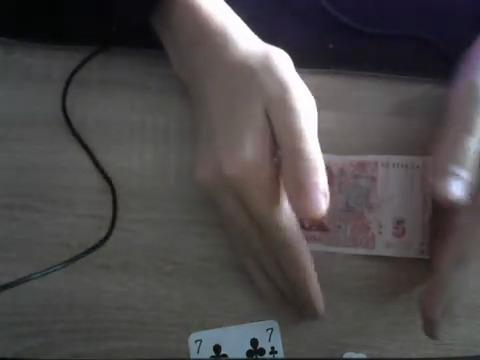5leva: (307, 154, 434, 259)
